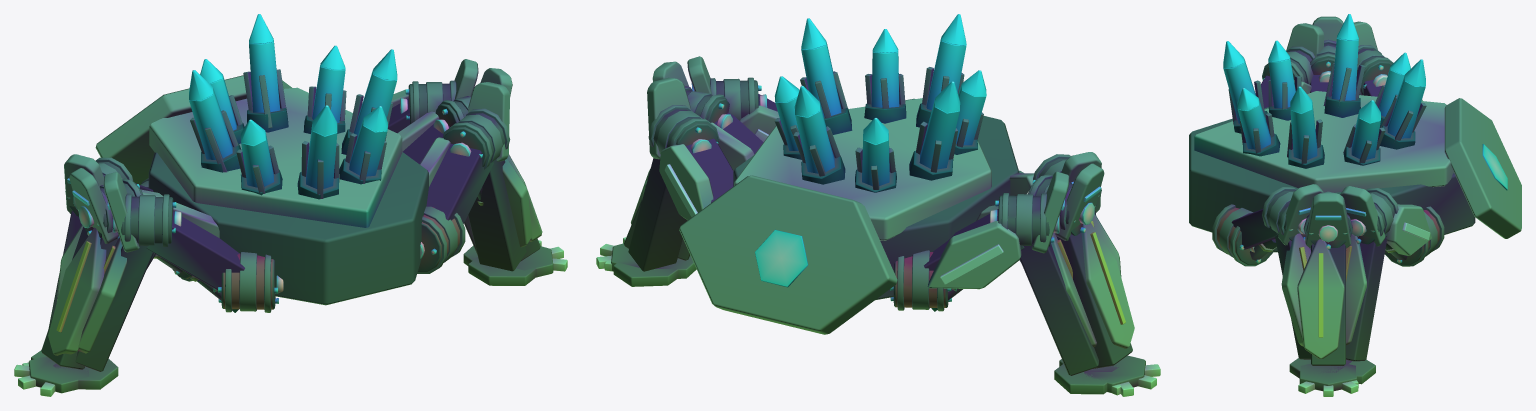
The model's file is crystal_bug.glb.
3 renders of one model, left to right at view 1: azimuth 30°, elevation 25°; view 2: azimuth 150°, elevation 25°; view 3: azimuth 270°, elevation 25°, orthographic. The views are drawn at different scales.
Parts seen in each view (by area): view 1: Body__dark, Body__armor, Hip_5_Knee__dark, Hip_4__dark, Body__gunmetal, Hip_5__dark, Body__armor_sub, Hip_4_Knee__dark, Hip_2_Knee__armor, Hip_5_Knee__gunmetal, Hip_4_Knee__gunmetal, Crystal_6__emit_core (+30 smaller); view 2: Body__armor_sub, Body__armor, Body__dark, Hip_0_Knee__dark, Hip_1_Knee__dark, Body__gunmetal, Hip_0__armor, Hip_2_Knee__armor, Hip_2_Knee__dark, Hip_0_Knee__gunmetal, Hip_1_Knee__gunmetal, Hip_1__armor (+32 smaller); view 3: Body__armor, Body__dark, Body__armor_sub, Hip_3_Knee__armor, Body__gunmetal, Hip_1_Knee__dark, Crystal_4__emit_core, Hip_5__dark, Crystal_6__emit_core, Hip_3_Knee__armor_sub, Hip_5_Knee__armor, Hip_1__armor (+28 smaller).
Part boxes in pixels (x1,y1,x2,y2): Body__dark: (148, 108, 428, 305); Body__armor: (149, 87, 402, 227); Hip_5_Knee__dark: (444, 113, 526, 271); Hip_4__dark: (146, 211, 275, 312); Body__gunmetal: (190, 69, 392, 198); Hip_5__dark: (418, 143, 493, 272); Body__armor_sub: (95, 75, 292, 184); Hip_4_Knee__dark: (75, 196, 173, 371); Hip_2_Knee__armor: (48, 227, 106, 355); Hip_5_Knee__gunmetal: (442, 108, 536, 285); Hip_4_Knee__gunmetal: (53, 193, 169, 389); Crystal_6__emit_core: (249, 14, 280, 112); Body__armor_sub: (679, 175, 897, 334); Body__armor: (734, 98, 991, 240); Body__dark: (733, 98, 1019, 300); Hip_0_Knee__dark: (998, 195, 1098, 375); Hip_1_Knee__dark: (628, 109, 718, 271); Body__gunmetal: (774, 67, 983, 189); Hip_0__armor: (927, 220, 1021, 289); Hip_2_Knee__armor: (1081, 223, 1134, 348); Hip_2_Knee__dark: (1028, 178, 1132, 368); Hip_0_Knee__gunmetal: (1001, 193, 1109, 394); Hip_1_Knee__gunmetal: (613, 105, 719, 286); Hip_1__armor: (659, 144, 713, 220); Body__armor: (1194, 91, 1453, 192); Body__dark: (1189, 96, 1475, 252); Body__armor_sub: (1444, 98, 1521, 238); Hip_3_Knee__armor: (1297, 239, 1344, 358); Body__gunmetal: (1228, 63, 1426, 166); Hip_1_Knee__dark: (1346, 192, 1394, 361); Crystal_4__emit_core: (1331, 14, 1358, 100); Hip_5__dark: (1217, 207, 1277, 264); Crystal_6__emit_core: (1387, 59, 1425, 138); Hip_3_Knee__armor_sub: (1305, 193, 1351, 248); Hip_5_Knee__armor: (1281, 233, 1310, 346); Hip_1__armor: (1386, 204, 1431, 255).
Size of the model in its own units: 2.9 by 1.35 by 1.76.
